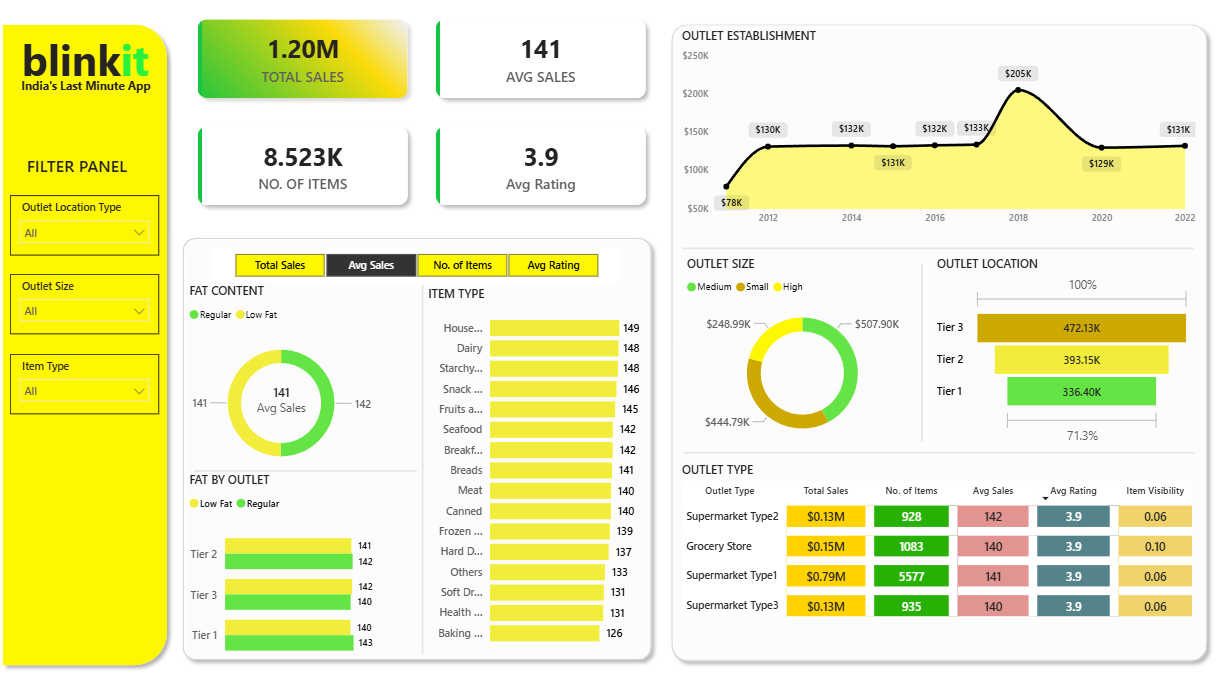

The page's visual inventory and layout, read from the dashboard file:
{"tool":"powerbi","page":{"name":"Page 1","canvas":[1400,800],"ordinal":0},"visuals":[{"type":"shape","box":[0,25.5,205.6,750.4],"z":0},{"type":"textbox","box":[22.5,90.1,162.1,30],"z":1000},{"type":"textbox","box":[4.5,37.5,198.1,82.5],"z":2000},{"type":"cardVisual","fields":{"Data":["BlinkIT Grocery Data.Total Sales","BlinkIT Grocery Data.Avg Sales","BlinkIT Grocery Data.No. of Items","BlinkIT Grocery Data.Avg Rating"]},"box":[203.3,0,570,270],"z":3000},{"type":"shape","box":[205,270,553.3,500],"z":4000},{"type":"slicer","fields":{"Values":["Matrics.Matrics"]},"box":[248.3,290,465,40],"z":5000},{"type":"donutChart","title":"FAT CONTENT","fields":{"Y":["BlinkIT Grocery Data.Avg Sales"],"Category":["BlinkIT Grocery Data.Item Fat Content"]},"box":[216.7,330,220,230],"z":6000},{"type":"cardVisual","fields":{"Data":["BlinkIT Grocery Data.Avg Sales"]},"box":[245,425,163.3,75],"z":7000},{"type":"clusteredBarChart","title":"FAT BY OUTLET","fields":{"Y":["BlinkIT Grocery Data.Avg Sales"],"Category":["BlinkIT Grocery Data.Outlet Location Type"],"Series":["BlinkIT Grocery Data.Item Fat Content"]},"box":[216.7,545,220,230],"z":8000},{"type":"shape","box":[228.3,410,253.3,270],"z":9000},{"type":"shape","box":[353.3,333.3,271.7,421.7],"z":10000},{"type":"barChart","title":"ITEM TYPE","fields":{"Y":["BlinkIT Grocery Data.Avg Sales"],"Category":["BlinkIT Grocery Data.Item Type"]},"box":[490,333.3,251.7,421.7],"z":11000},{"type":"shape","box":[764.3,25.7,630,745.7],"z":12000},{"type":"lineChart","title":"OUTLET ESTABLISHMENT","fields":{"Category":["BlinkIT Grocery Data.Outlet Establishment Year"],"Y":["BlinkIT Grocery Data.Total Sales"]},"box":[780,38.6,597.1,234.3],"z":13000},{"type":"shape","box":[785,155,585,270],"z":14000},{"type":"donutChart","title":"OUTLET SIZE","fields":{"Y":["BlinkIT Grocery Data.Total Sales"],"Category":["BlinkIT Grocery Data.Outlet Size"]},"box":[785.7,298.6,274.3,224.3],"z":15000},{"type":"funnel","title":"OUTLET LOCATION","fields":{"Y":["Sum(BlinkIT Grocery Data.Sales)"],"Category":["BlinkIT Grocery Data.Outlet Location Type"]},"box":[1071.4,298.6,300,221.4],"z":16000},{"type":"shape","box":[922.9,308.6,272.9,202.9],"z":17000},{"type":"pivotTable","title":"OUTLET TYPE","fields":{"Rows":["BlinkIT Grocery Data.Outlet Type"],"Values":["BlinkIT Grocery Data.Total Sales","BlinkIT Grocery Data.No. of Items","BlinkIT Grocery Data.Avg Sales","BlinkIT Grocery Data.Avg Rating","Avg(BlinkIT Grocery Data.Item Visibility)"]},"box":[780,534.3,597.1,192.9],"z":18000},{"type":"shape","box":[787.1,388.6,584.3,271.4],"z":19000},{"type":"slicer","fields":{"Values":["BlinkIT Grocery Data.Outlet Location Type"]},"box":[17.1,230,170,68.6],"z":20000},{"type":"slicer","fields":{"Values":["BlinkIT Grocery Data.Outlet Size"]},"box":[17.1,320,170,68.6],"z":20001},{"type":"slicer","fields":{"Values":["BlinkIT Grocery Data.Item Type"]},"box":[17.1,411.4,170,68.6],"z":20002},{"type":"textbox","box":[31.4,178.6,142.9,38.6],"z":20003}]}

Visuals, with their boxes in screenshot pixels (x1, y1, x2, y2), scaled from the page's 1400x800 canvas onto the 1217x682 screenshot:
shape: 0,22,179,661
textbox: 20,77,160,102
textbox: 4,32,176,102
cardVisual - BlinkIT Grocery Data.Total Sales x BlinkIT Grocery Data.Avg Sales: 177,0,672,230
shape: 178,230,659,656
slicer - Matrics.Matrics: 216,247,620,281
"FAT CONTENT" donutChart: 188,281,380,477
cardVisual - BlinkIT Grocery Data.Avg Sales: 213,362,355,426
"FAT BY OUTLET" clusteredBarChart: 188,465,380,661
shape: 198,350,419,580
shape: 307,284,543,644
"ITEM TYPE" barChart: 426,284,645,644
shape: 664,22,1212,658
"OUTLET ESTABLISHMENT" lineChart: 678,33,1197,233
shape: 682,132,1191,362
"OUTLET SIZE" donutChart: 683,255,921,446
"OUTLET LOCATION" funnel: 931,255,1192,443
shape: 802,263,1039,436
"OUTLET TYPE" pivotTable: 678,455,1197,620
shape: 684,331,1192,563
slicer - BlinkIT Grocery Data.Outlet Location Type: 15,196,163,255
slicer - BlinkIT Grocery Data.Outlet Size: 15,273,163,331
slicer - BlinkIT Grocery Data.Item Type: 15,351,163,409
textbox: 27,152,152,185
